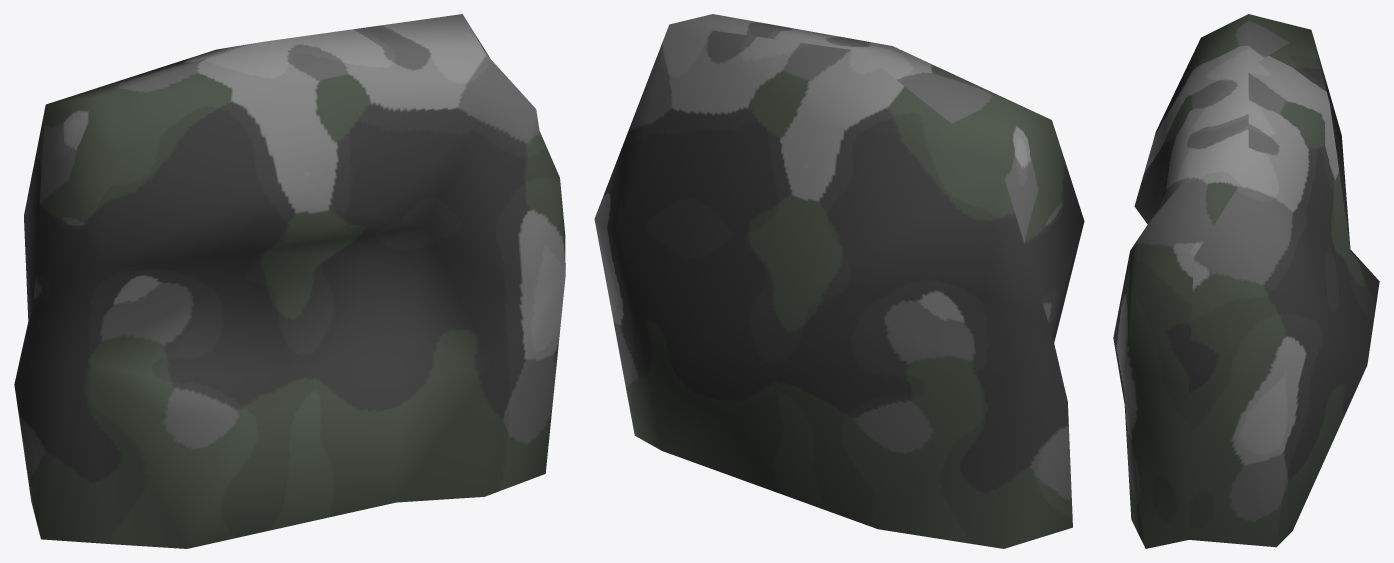
The model's file is Rock Face_preview_3DS_simplified.glb.
3 renders of one model, left to right at view 1: azimuth 30°, elevation 25°; view 2: azimuth 150°, elevation 25°; view 3: azimuth 270°, elevation 25°, orthographic. The views are drawn at different scales.
Parts seen in each view (by area): view 1: Marine Park Empire model; view 2: Marine Park Empire model; view 3: Marine Park Empire model.
Boxes of the visible parts, x1,y1,x2,y2 form: Marine Park Empire model: (14, 14, 565, 548); Marine Park Empire model: (594, 14, 1084, 548); Marine Park Empire model: (1113, 14, 1379, 548).
Size of the model in its own units: 148 by 125 by 78.11.
Materials: 1 (1 with a texture image).
